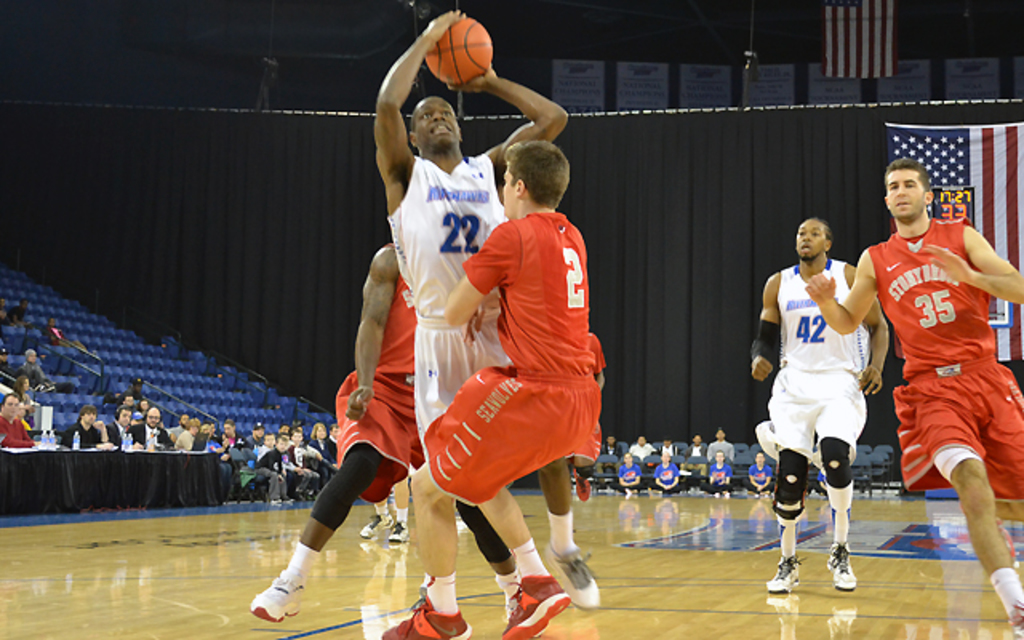Ball: (426, 16, 490, 83)
